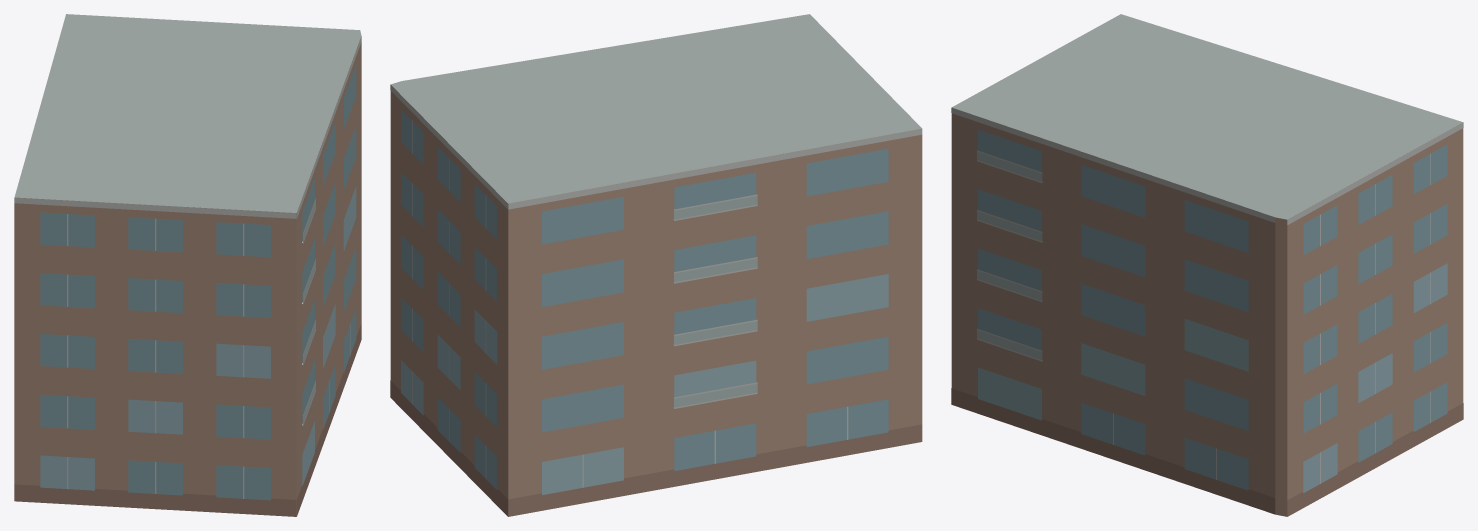
The model's file is survey-upis-32912152.glb.
3 views of the same model, side by side, from view 1: azimuth 30°, elevation 25°; view 2: azimuth 150°, elevation 25°; view 3: azimuth 270°, elevation 25° (orthographic). The views are drawn at different scales.
Visible parts, largest first — view 1: survey-upis-32912152.tmp; view 2: survey-upis-32912152.tmp; view 3: survey-upis-32912152.tmp.
Boxes of the visible parts, left/top/right/bottom form: survey-upis-32912152.tmp: left=14, top=14, right=361, bottom=516; survey-upis-32912152.tmp: left=390, top=14, right=922, bottom=516; survey-upis-32912152.tmp: left=951, top=14, right=1463, bottom=516.
Bounding box in the file's own units: 19.01 × 12.8 × 19.99.
